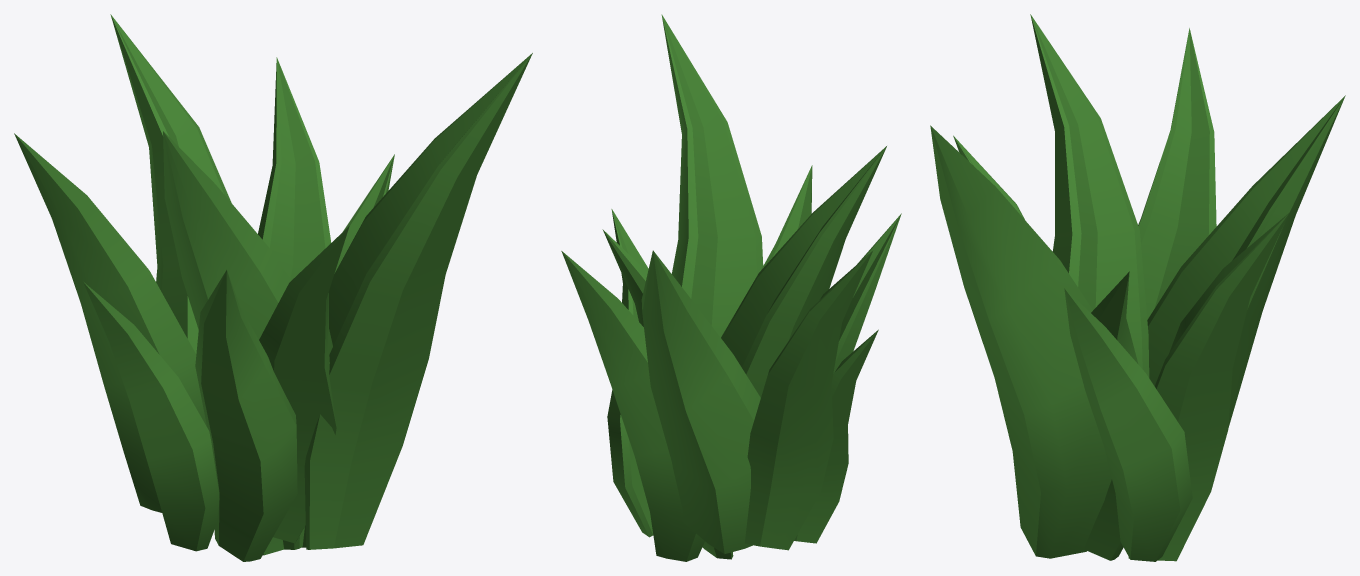
Rendered from flower_2.fbx.
3 renders of one model, left to right at view 1: azimuth 30°, elevation 25°; view 2: azimuth 150°, elevation 25°; view 3: azimuth 270°, elevation 25°, orthographic. The views are drawn at different scales.
Visible parts, largest first — view 1: flower_2; view 2: flower_2; view 3: flower_2.
Part boxes in pixels (box(x1,y1,x2,y2)): flower_2: box(14, 14, 532, 561); flower_2: box(561, 14, 901, 561); flower_2: box(930, 14, 1345, 561).
Size of the model in its own units: 97.47 by 128 by 95.11.
